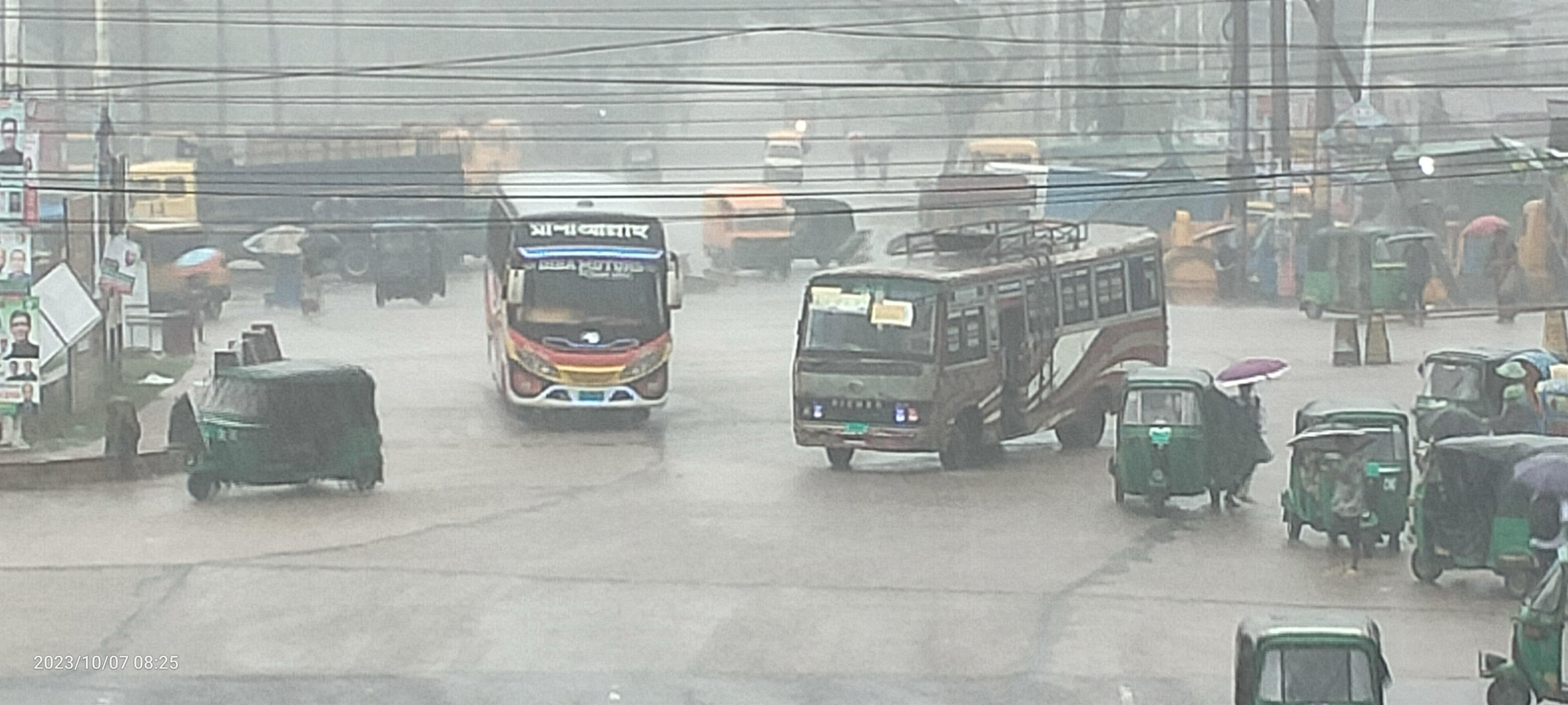Bus: (775, 205, 1198, 497), (452, 107, 720, 448)
Car: (695, 180, 812, 285), (745, 107, 831, 219)
Truck: (94, 94, 475, 288)
